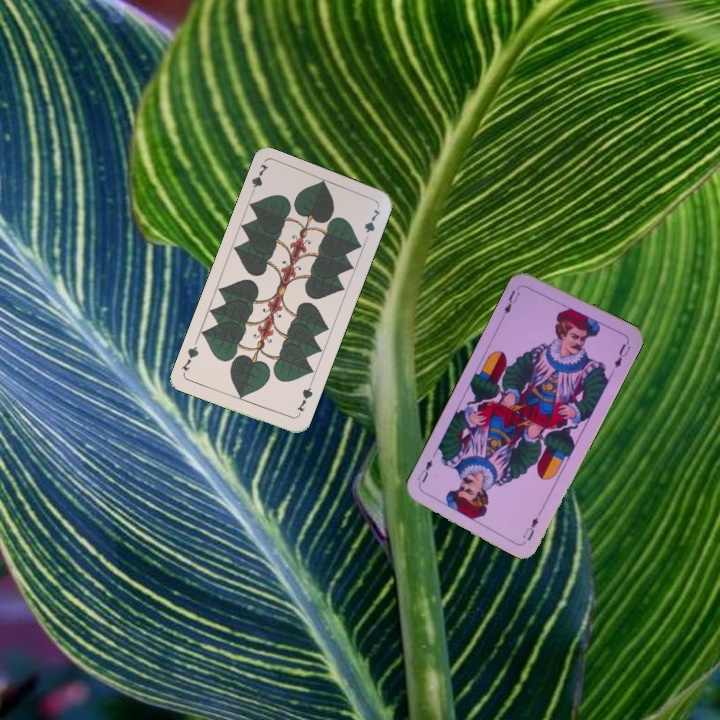EU: (500, 283, 523, 317), (518, 513, 541, 543)
G7: (246, 160, 271, 199), (293, 380, 315, 419)
